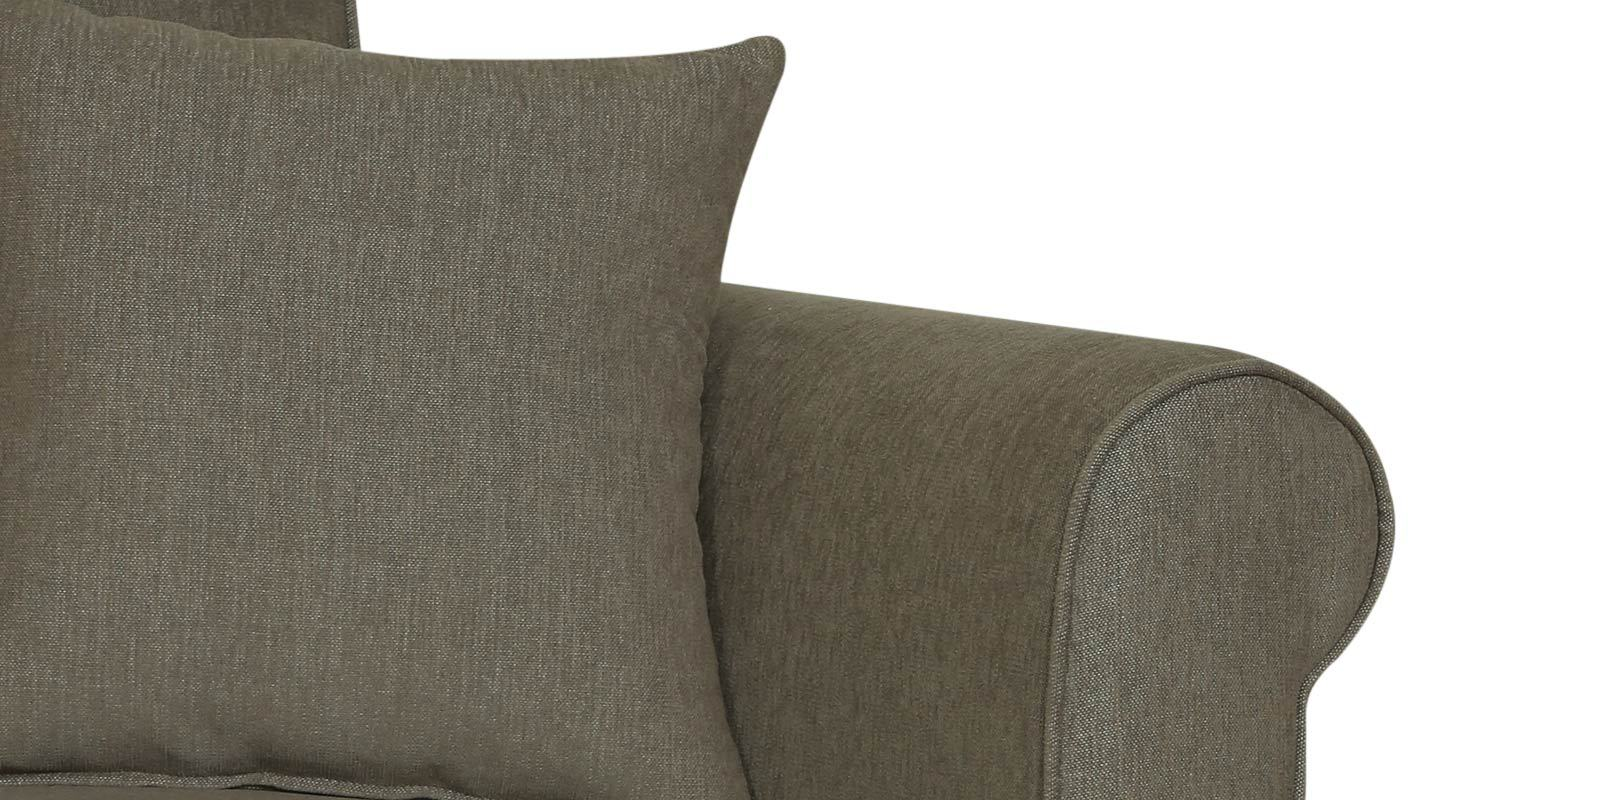Fuego Three Seater Sofa in Sandy Brown Colour by CasaCraft: (5, 5, 1419, 800)
